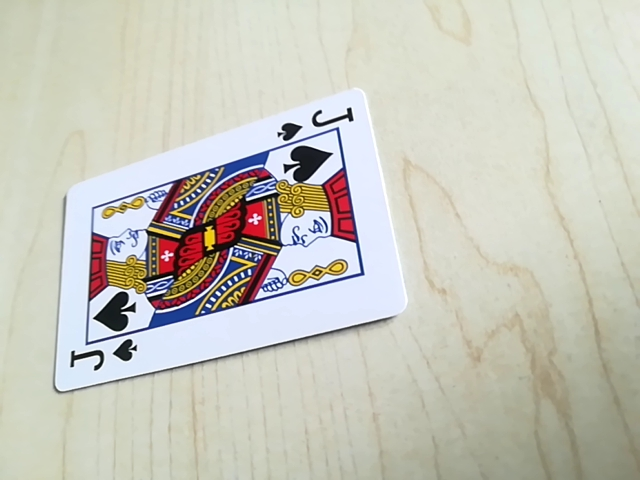ht j: (62, 331, 144, 382), (273, 105, 362, 146)
